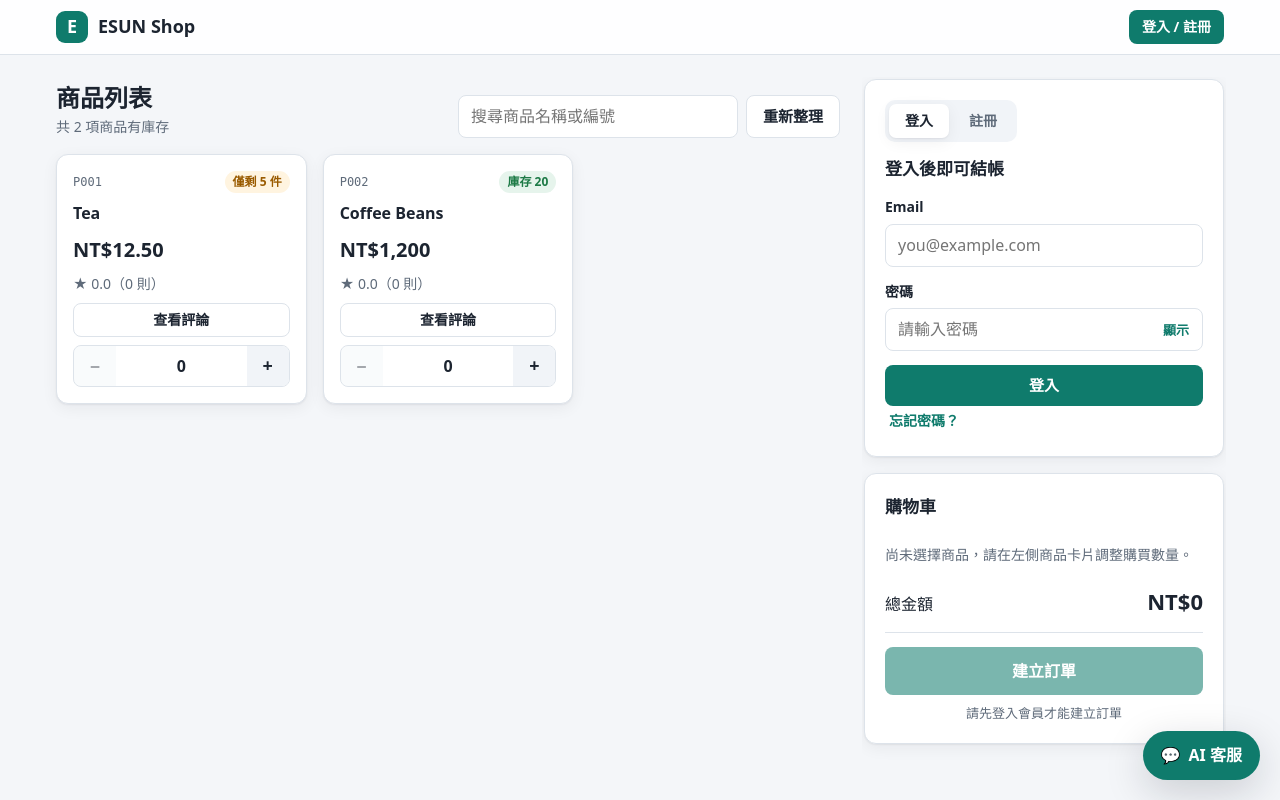
Test: authentication UI › shows backend login failure, keeps the user signed out and permits another attempt
Type "member@example.com" into the field with id "auth-email" at (1044, 245), box [885,224,1203,266]
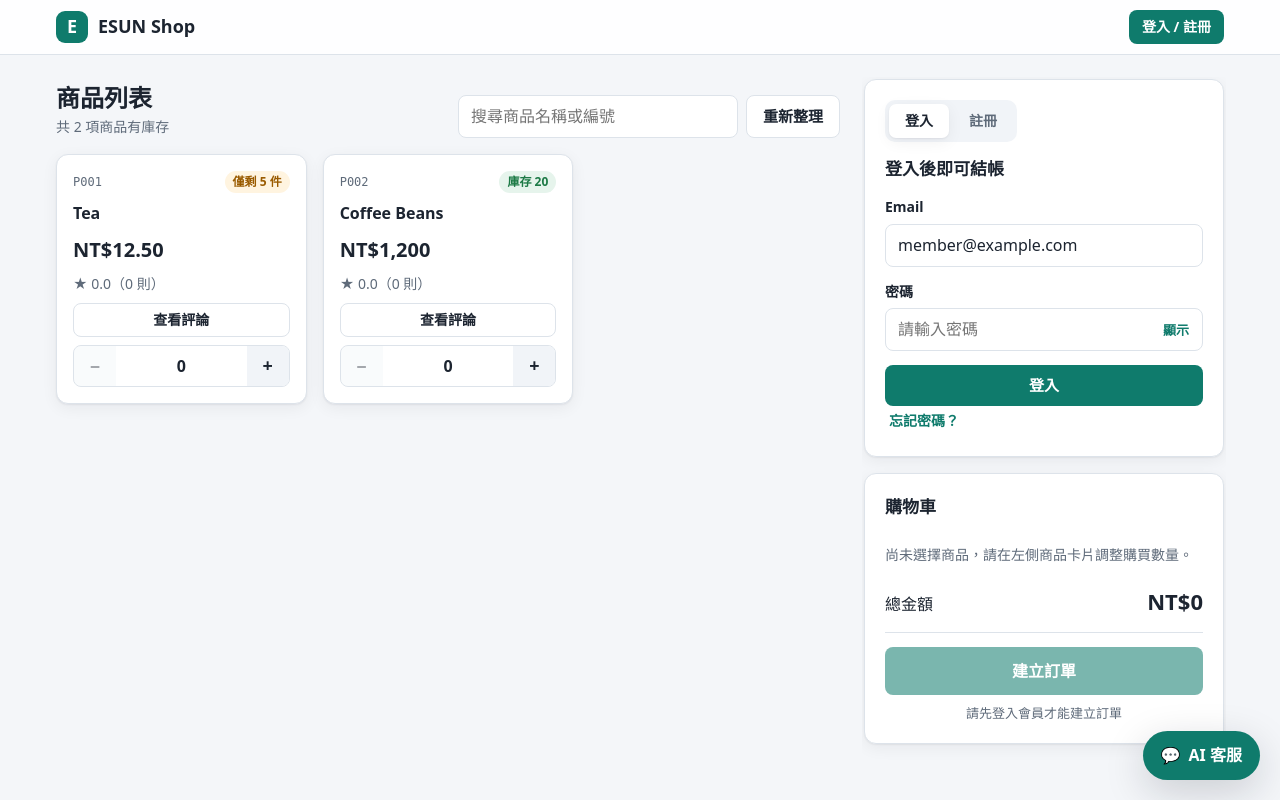
Type "password123" into the password field with id "auth-password" at (1044, 330), box [885,308,1203,351]
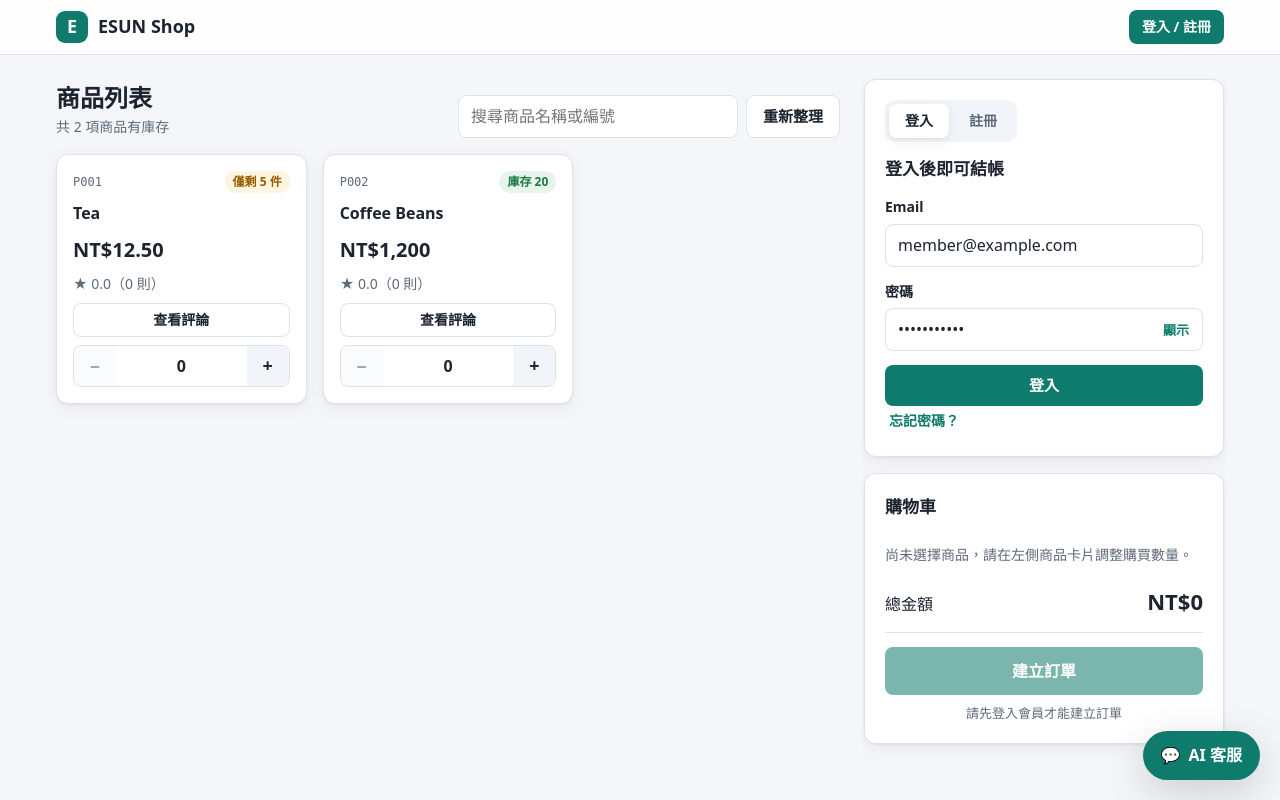
Submit the form "Email 密碼 顯示 登入 忘記密碼？", box [885,196,1203,436]
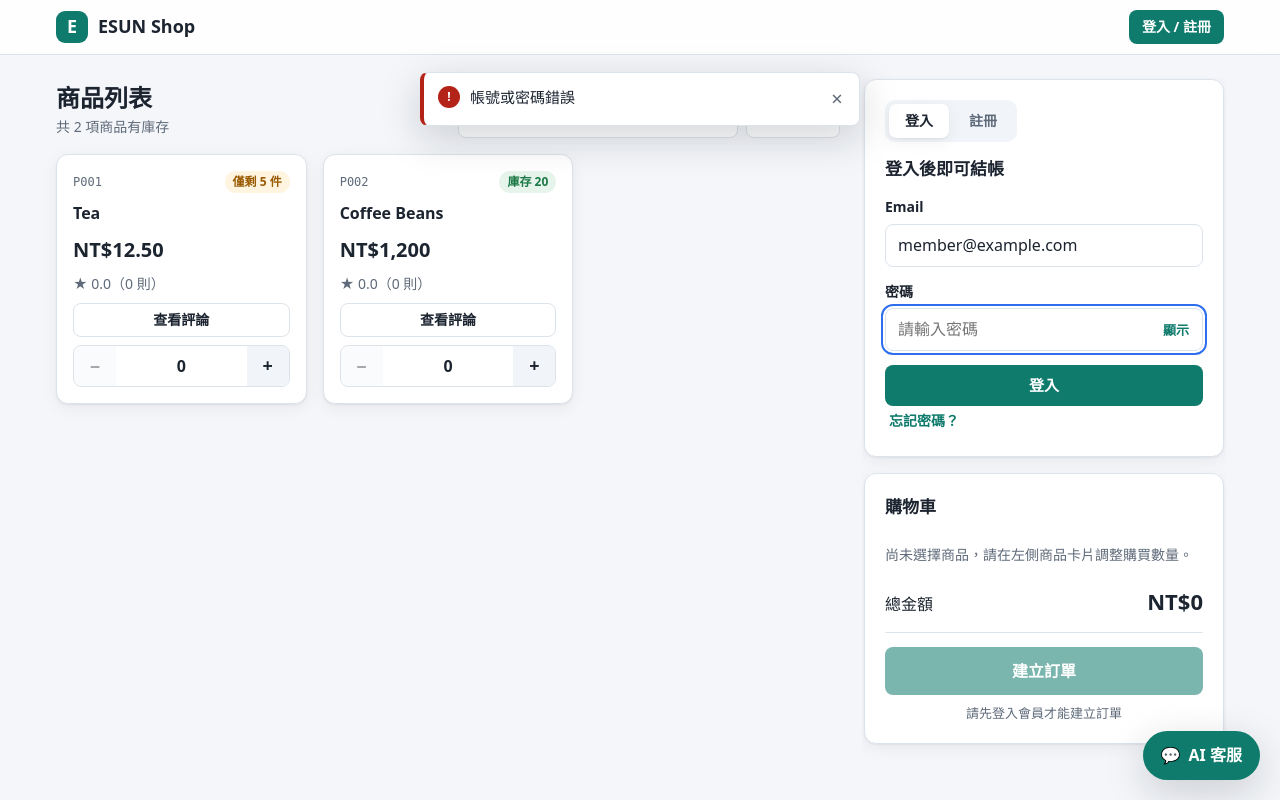
Check: the tab "登入" is enabled, box [889,104,949,138]
Check: the text "帳號或密碼錯誤" is shown, box [470,87,575,107]
Check: the password field with id "auth-password" is empty, box [885,308,1203,351]
